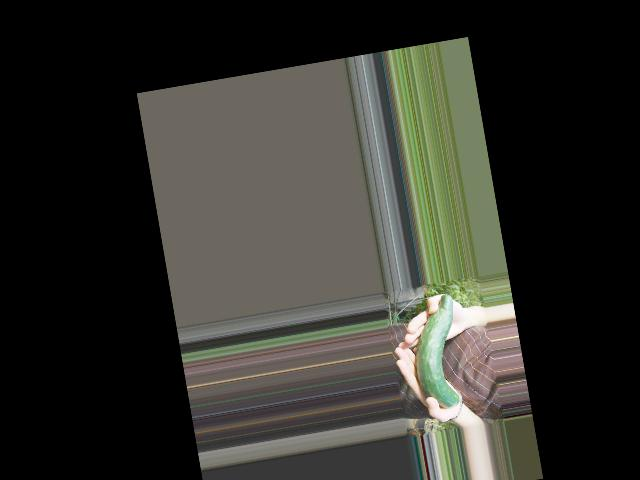cucumber: (405, 293, 470, 413)
